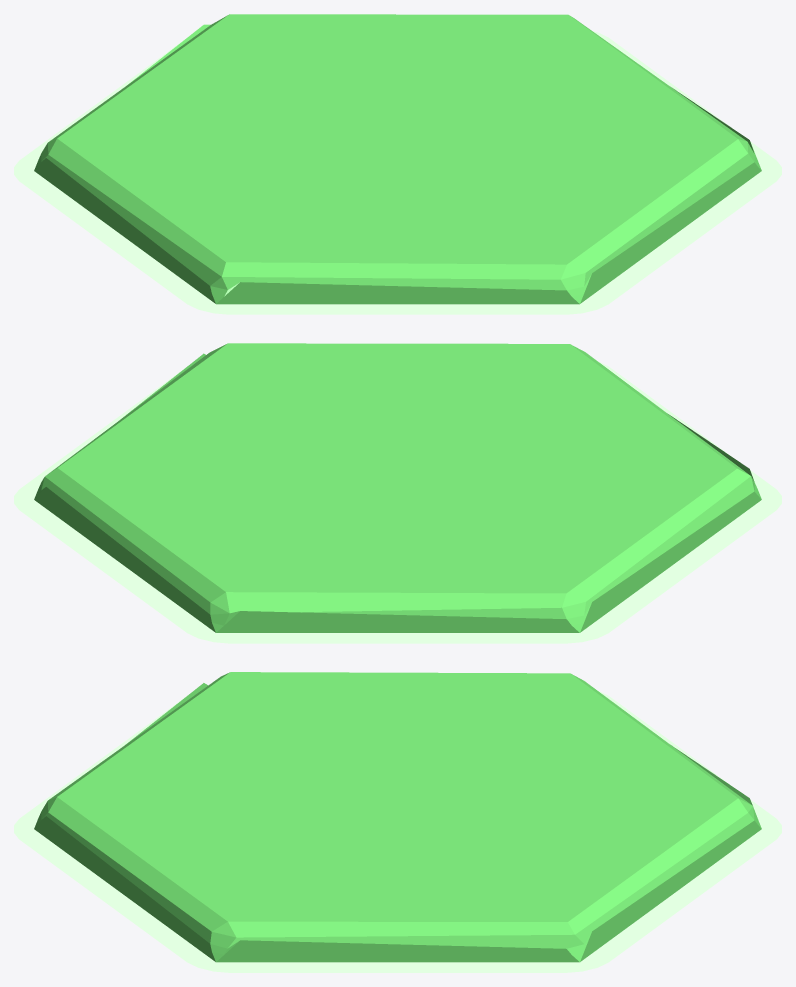
File: green_hexagon.glb
The picture shows the model from 3 angles, top to bottom: view 1: azimuth 30°, elevation 25°; view 2: azimuth 150°, elevation 25°; view 3: azimuth 270°, elevation 25°; orthographic projection.
Parts seen in each view (by area): view 1: hexagon; view 2: hexagon; view 3: hexagon.
Boxes of the visible parts, left/top/right/bottom form: hexagon: left=14, top=14, right=781, bottom=314; hexagon: left=14, top=343, right=781, bottom=643; hexagon: left=14, top=672, right=781, bottom=972.
Size of the model in its own units: 1.73 by 0.0909 by 1.95.
